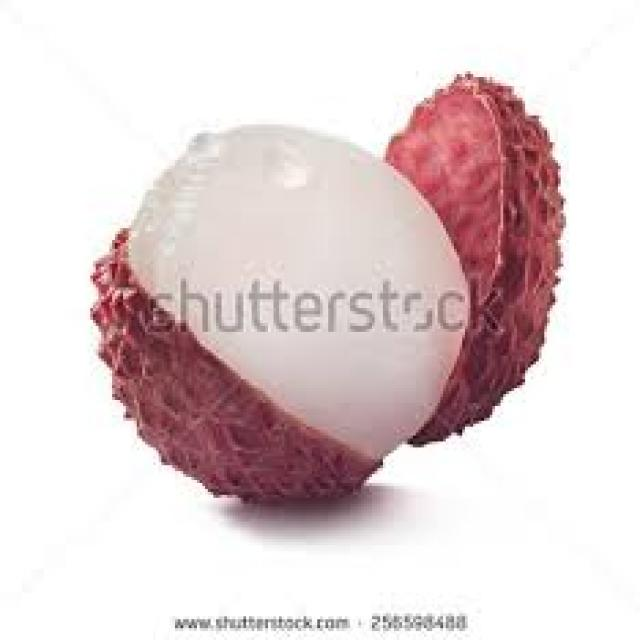organic waste: (91, 74, 564, 501), (96, 124, 465, 501), (380, 71, 547, 448)
